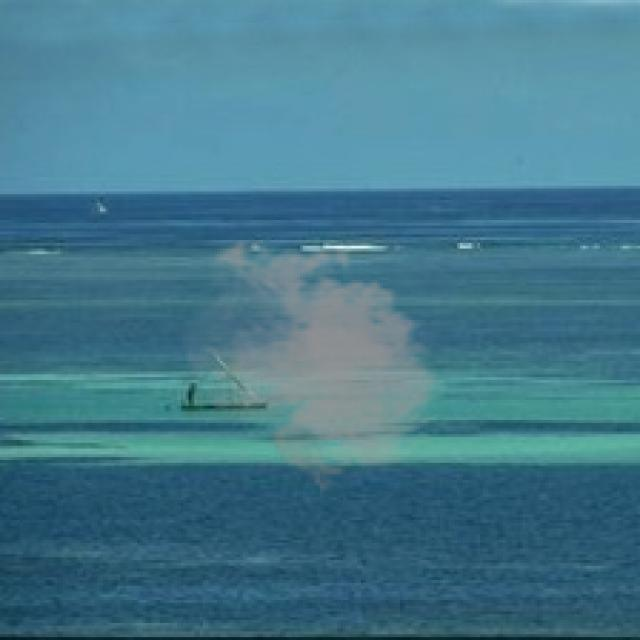smoke: (177, 235, 449, 494)
